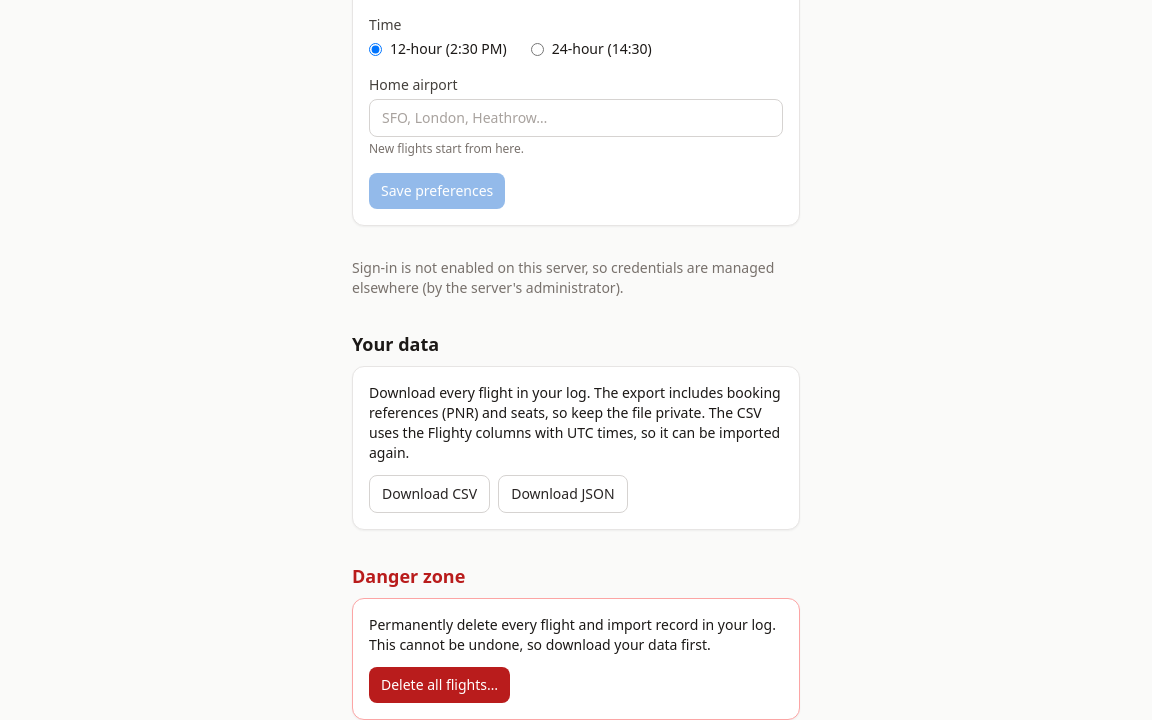
Test: Danger zone › Cancel closes without deleting
(page scrolled)
Click the button "Delete all flights…" at (440, 685), box [369,667,510,703]
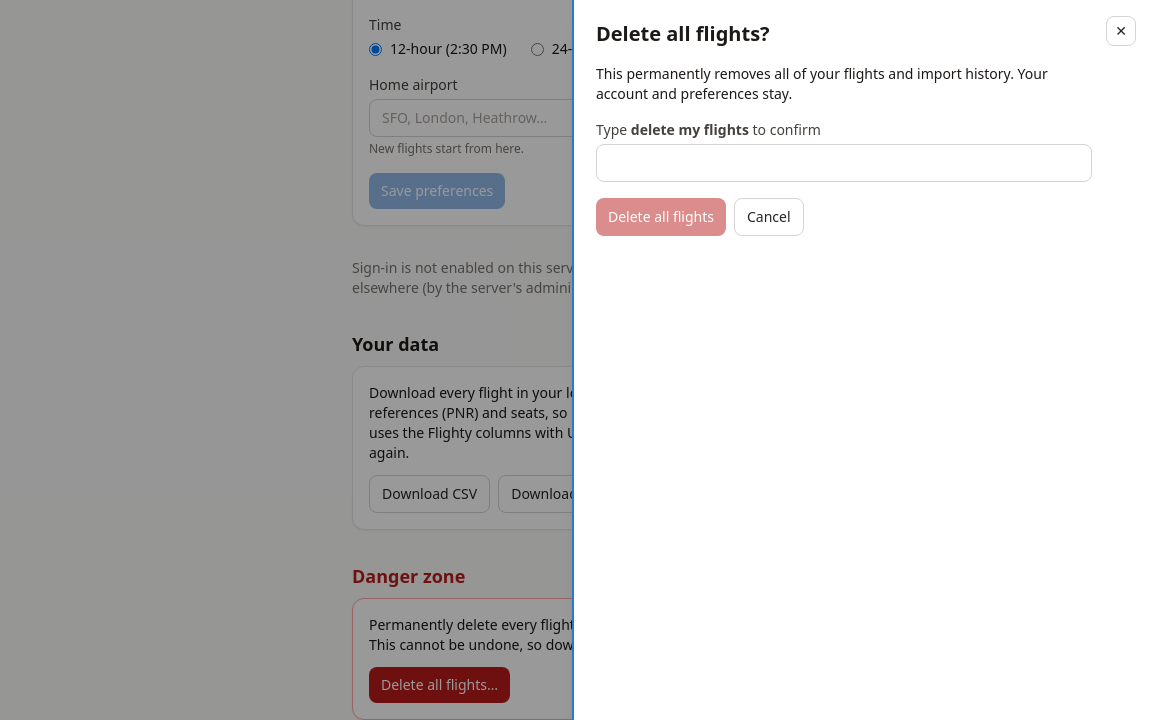
Click the button "Cancel" at (769, 217), box [734,198,804,236]
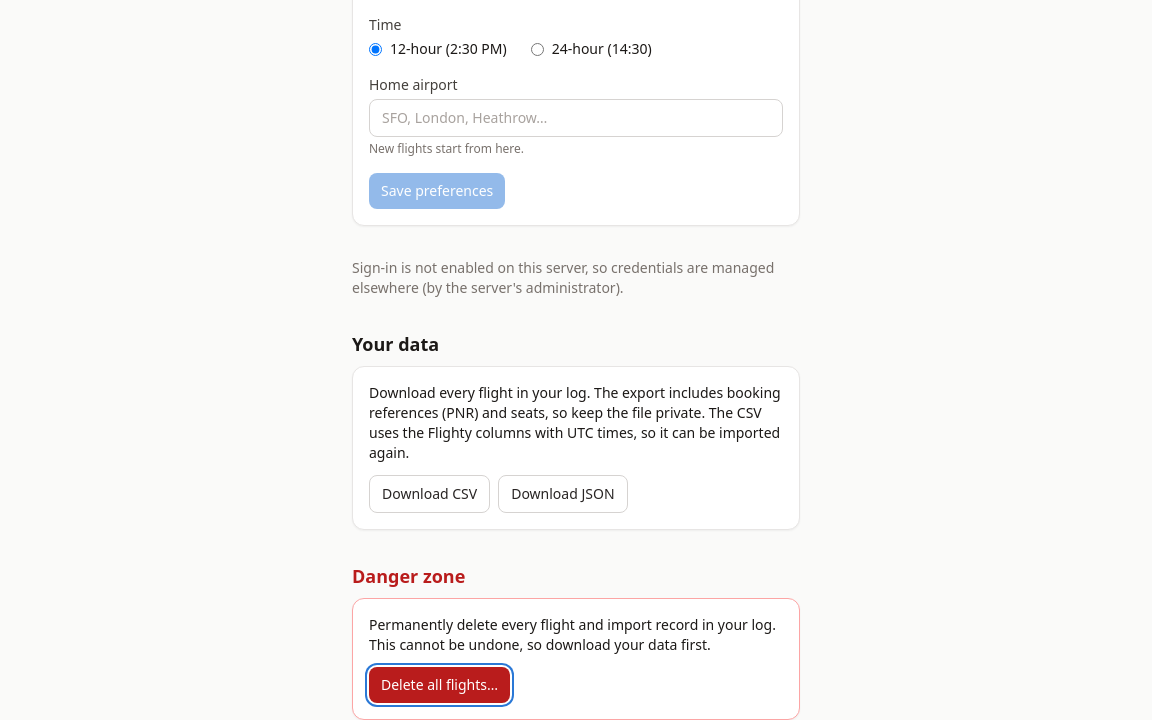
Now the dialog is gone
